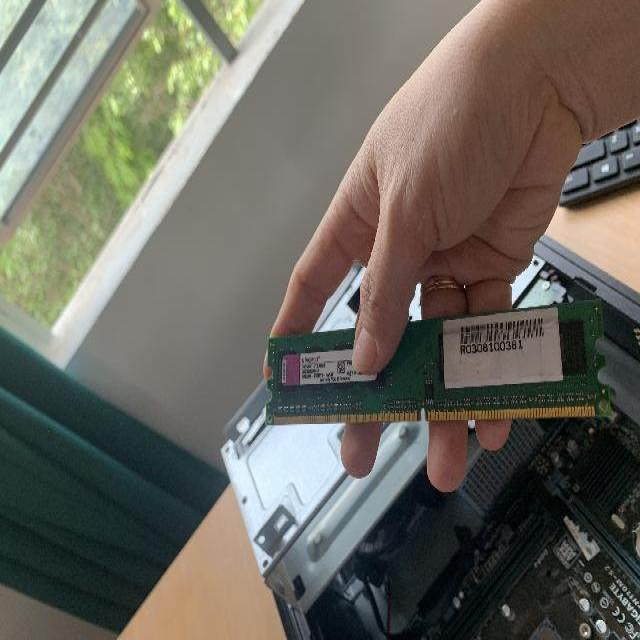RAM: (265, 296, 612, 428)
